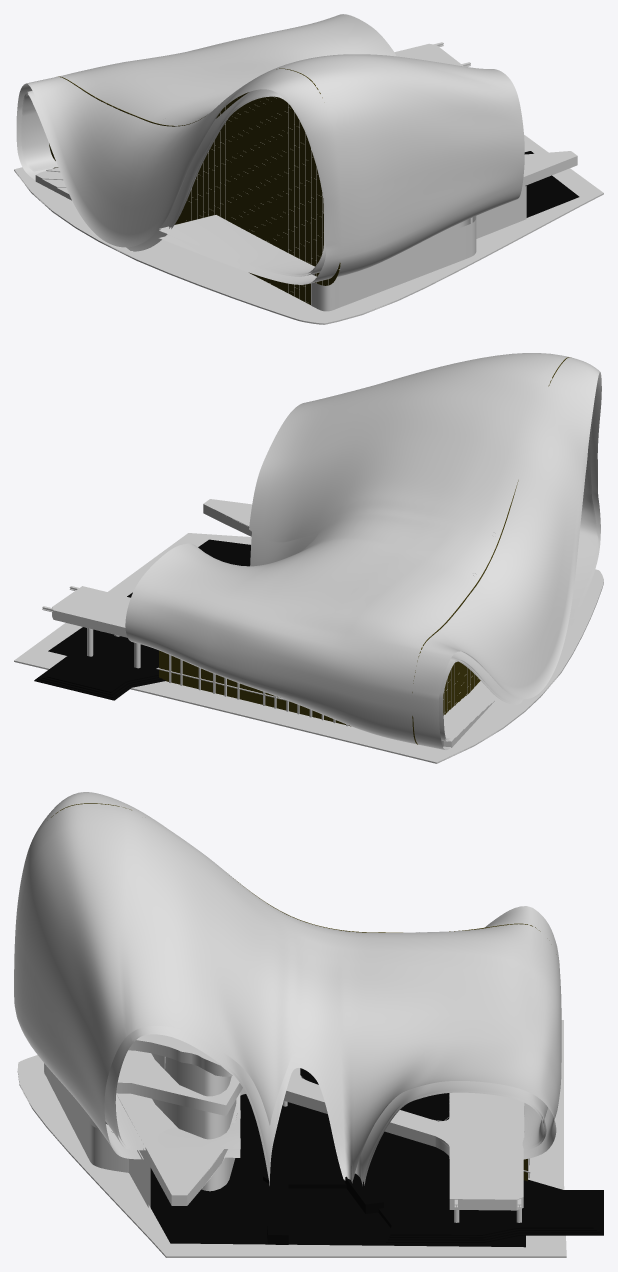
The model's file is HEYDAR CENTER 3D.fbx.
The picture shows the model from 3 angles, top to bottom: view 1: azimuth 30°, elevation 25°; view 2: azimuth 150°, elevation 25°; view 3: azimuth 270°, elevation 25°; orthographic projection. The views are drawn at different scales.
Visible parts, largest first — view 1: Objeto_6_Material_2_0, Objeto_1086_Glass_0, Objeto_1133_Material_2_0, Objeto_1_Material_2_0, Objeto_5_Material_2_0, Objeto_4_Material_2_0, Objeto_8_Material_2_0, Objeto_1115_Metal_0, Objeto_1134_Material_2_0; view 2: Objeto_6_Material_2_0, Objeto_1133_Material_2_0, Objeto_1098_Metal_0, Objeto_4_Material_2_0, Objeto_8_Material_2_0, Objeto_1121_Glass_0, Objeto_5_Material_2_0, Objeto_1099_Metal_0, Objeto_1086_Glass_0, Objeto_1134_Material_2_0, Objeto_1115_Metal_0; view 3: Objeto_6_Material_2_0, Objeto_1115_Metal_0, Objeto_1133_Material_2_0, Objeto_1098_Metal_0, Objeto_8_Material_2_0, Objeto_4_Material_2_0, Objeto_5_Material_2_0, Objeto_7_Material_2_0, Objeto_282_Material_2_0, Objeto_1099_Metal_0, Objeto_1_Material_2_0, Objeto_1134_Material_2_0 (+7 smaller).
Part boxes in pixels (bbox=[...]): Objeto_6_Material_2_0: bbox=[16, 14, 524, 284]; Objeto_1086_Glass_0: bbox=[49, 68, 340, 304]; Objeto_1133_Material_2_0: bbox=[14, 135, 603, 324]; Objeto_1_Material_2_0: bbox=[311, 186, 526, 311]; Objeto_5_Material_2_0: bbox=[22, 93, 324, 274]; Objeto_4_Material_2_0: bbox=[21, 89, 326, 276]; Objeto_8_Material_2_0: bbox=[394, 43, 577, 176]; Objeto_1115_Metal_0: bbox=[525, 175, 579, 217]; Objeto_1134_Material_2_0: bbox=[35, 167, 71, 200]; Objeto_6_Material_2_0: bbox=[125, 353, 601, 749]; Objeto_1133_Material_2_0: bbox=[14, 533, 603, 763]; Objeto_1098_Metal_0: bbox=[47, 629, 158, 691]; Objeto_4_Material_2_0: bbox=[250, 405, 598, 741]; Objeto_8_Material_2_0: bbox=[52, 499, 252, 627]; Objeto_1121_Glass_0: bbox=[159, 650, 350, 726]; Objeto_5_Material_2_0: bbox=[442, 432, 598, 739]; Objeto_1099_Metal_0: bbox=[47, 630, 158, 692]; Objeto_1086_Glass_0: bbox=[412, 357, 569, 744]; Objeto_1134_Material_2_0: bbox=[441, 694, 494, 747]; Objeto_1115_Metal_0: bbox=[48, 539, 250, 655]; Objeto_6_Material_2_0: bbox=[14, 792, 561, 1183]; Objeto_1115_Metal_0: bbox=[150, 1068, 525, 1247]; Objeto_1133_Material_2_0: bbox=[17, 1020, 566, 1257]; Objeto_1098_Metal_0: bbox=[263, 1126, 593, 1234]; Objeto_8_Material_2_0: bbox=[116, 1068, 523, 1199]; Objeto_4_Material_2_0: bbox=[104, 1026, 547, 1185]; Objeto_5_Material_2_0: bbox=[113, 1033, 544, 1185]; Objeto_7_Material_2_0: bbox=[151, 1053, 236, 1191]; Objeto_282_Material_2_0: bbox=[116, 1050, 242, 1115]; Objeto_1099_Metal_0: bbox=[264, 1130, 593, 1235]; Objeto_1_Material_2_0: bbox=[44, 1063, 148, 1207]; Objeto_1134_Material_2_0: bbox=[449, 1092, 524, 1137].
Size of the model in its own units: 706 by 366 by 722.
